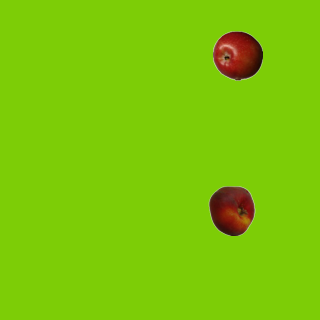Apple Braeburn: (212, 30, 262, 80)
Nectarine Flat: (206, 185, 256, 235)
